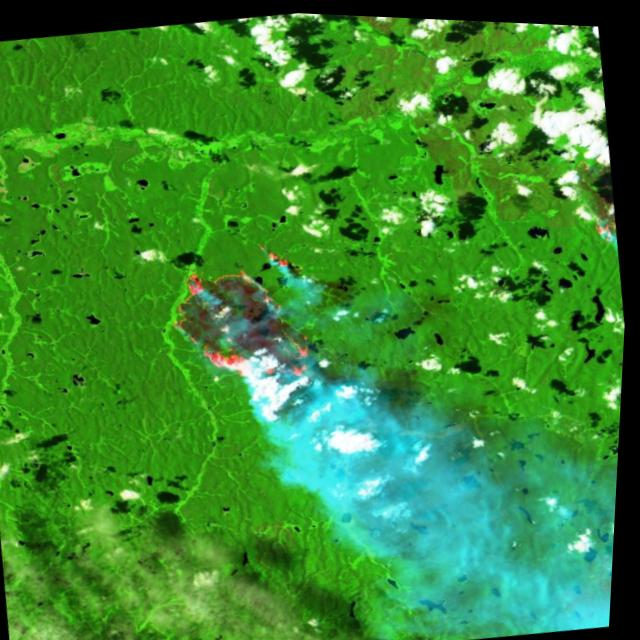fire: (159, 229, 333, 398), (563, 145, 623, 243)
